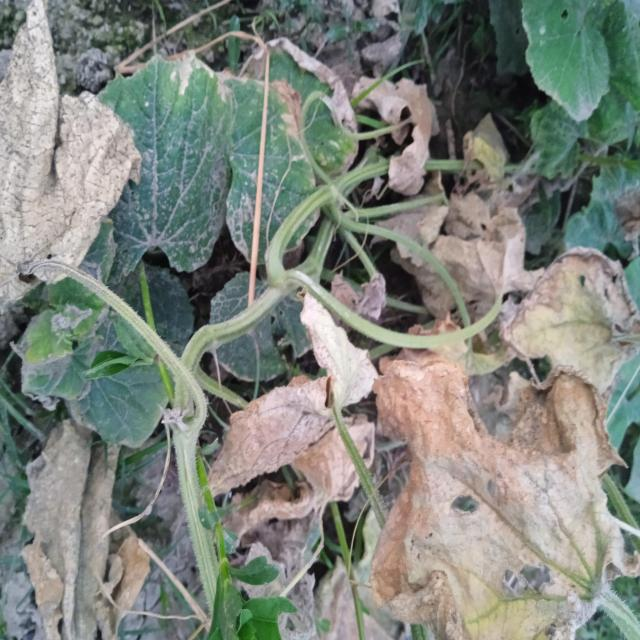cucumber_bacterial: (353, 210, 631, 640), (121, 303, 390, 595), (88, 15, 352, 312), (0, 333, 149, 640), (0, 12, 125, 330), (432, 4, 640, 177)
